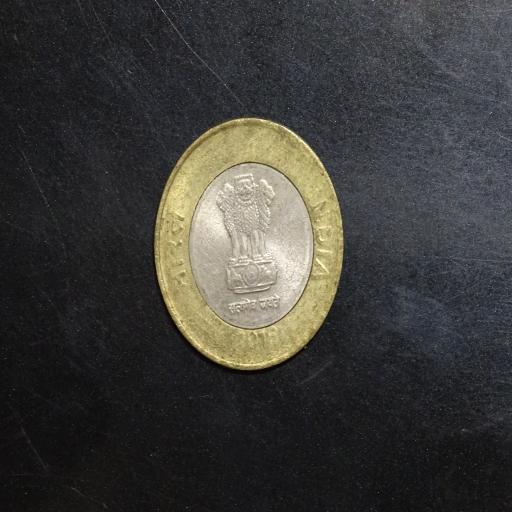rupee10: (155, 119, 342, 367)
